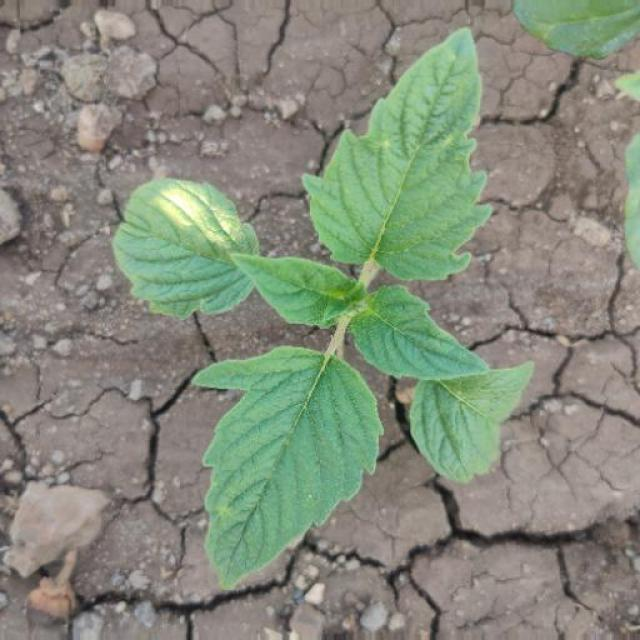crop: (110, 30, 535, 594)
